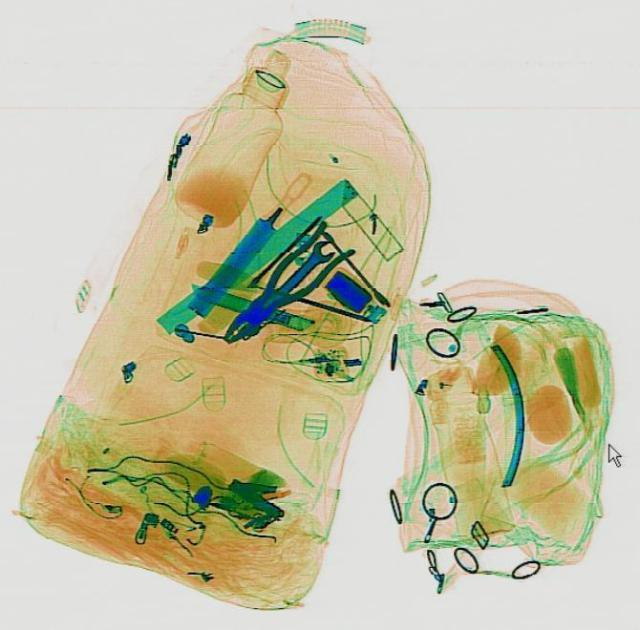Pliers: (209, 219, 357, 353)
Wrench: (250, 234, 338, 318)
